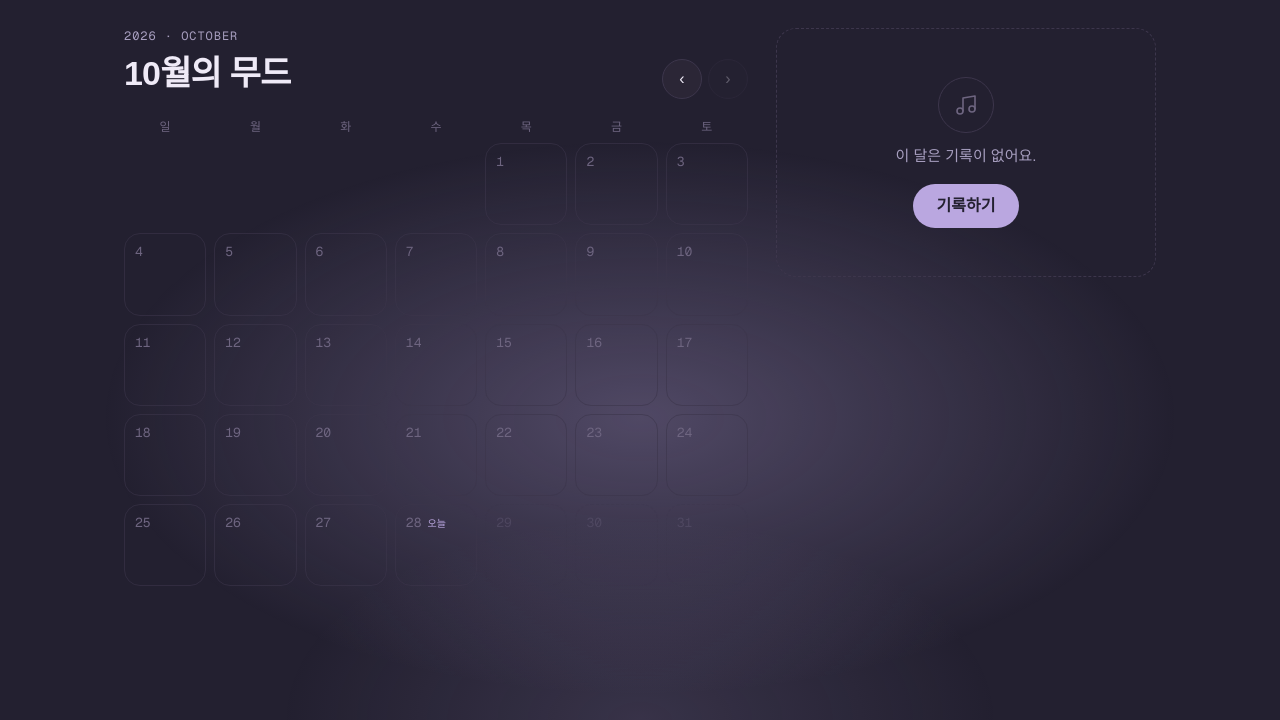
DiaryCalendar › moves to the previous month and blocks moving past the current month
The image size is (1280, 720).
expect the heading "10월의 무드" is shown: met, box [124,48,290,99]
expect the button named "다음 달" is disabled: met, box [708,59,748,99]
Click the button named "이전 달". click: click(682, 79)
box: [662,59,702,99]
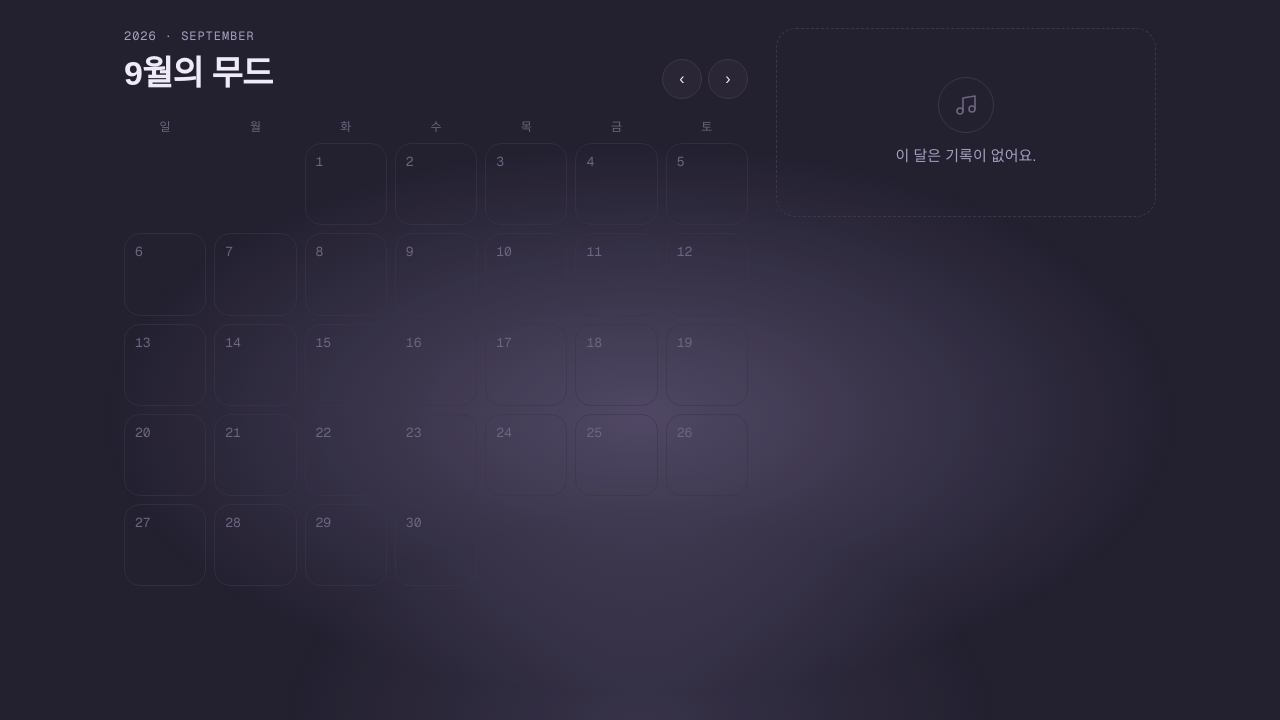
expect the heading "9월의 무드" is shown: met, box [124,48,272,99]
Click the button named "다음 달". click: click(728, 79)
box: [708,59,748,99]
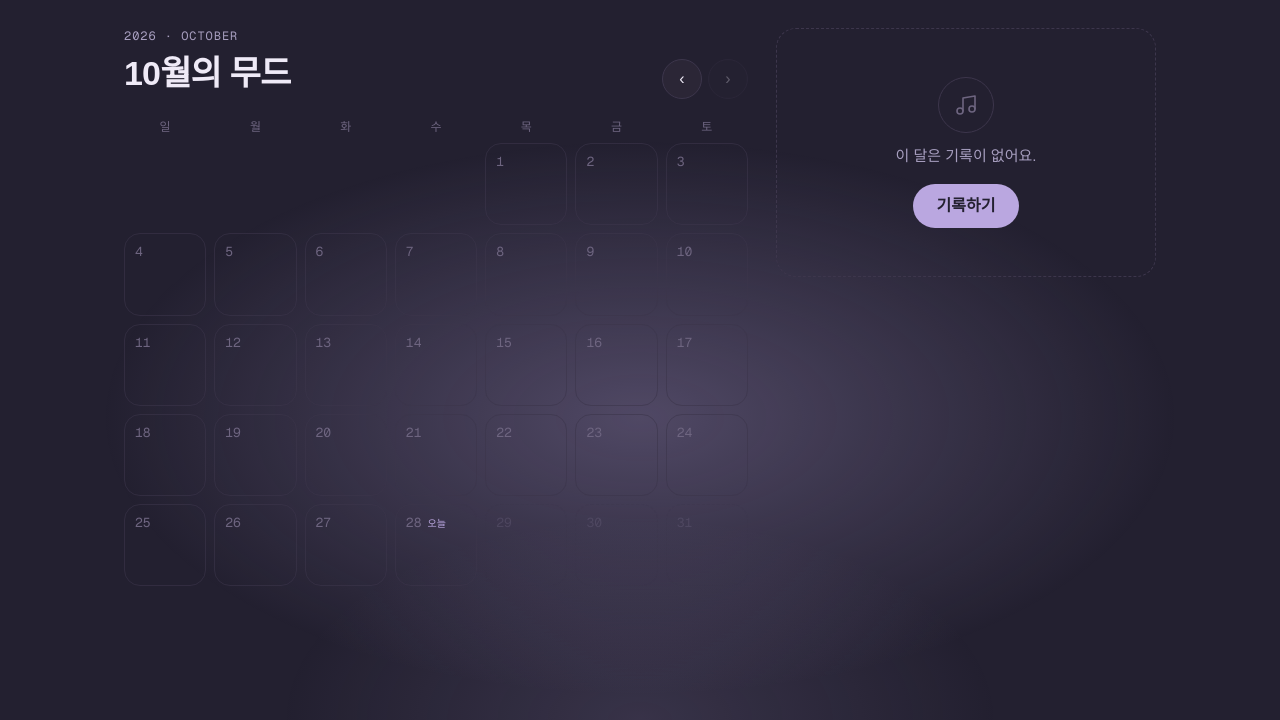
expect the heading "10월의 무드" is shown: met, box [124,48,290,99]
